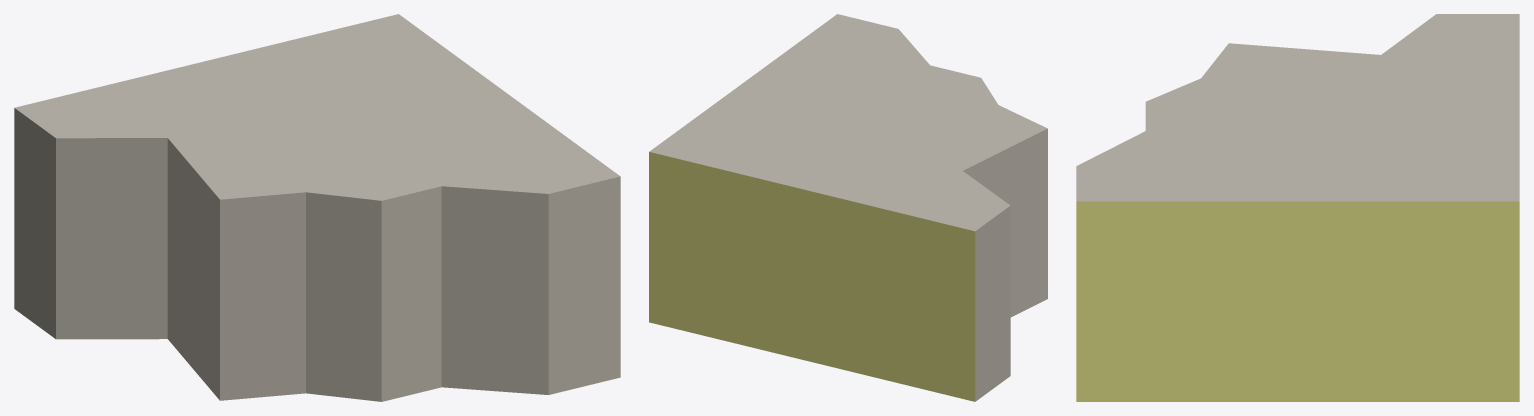
File: Cracked_Curve_Outer_3x3_2_Mid.glb
3 renders of one model, left to right at view 1: azimuth 30°, elevation 25°; view 2: azimuth 150°, elevation 25°; view 3: azimuth 270°, elevation 25°, orthographic. The views are drawn at different scales.
Visible parts, largest first — view 1: Cracked_Curve_Outer_3x3_2_Mid; view 2: Cracked_Curve_Outer_3x3_2_Mid; view 3: Cracked_Curve_Outer_3x3_2_Mid.
Boxes of the visible parts, x1,y1,x2,y2 form: Cracked_Curve_Outer_3x3_2_Mid: (14,14,620,401); Cracked_Curve_Outer_3x3_2_Mid: (649,14,1047,401); Cracked_Curve_Outer_3x3_2_Mid: (1076,14,1519,401).
Bounding box in the file's own units: 200 × 100 × 200.
